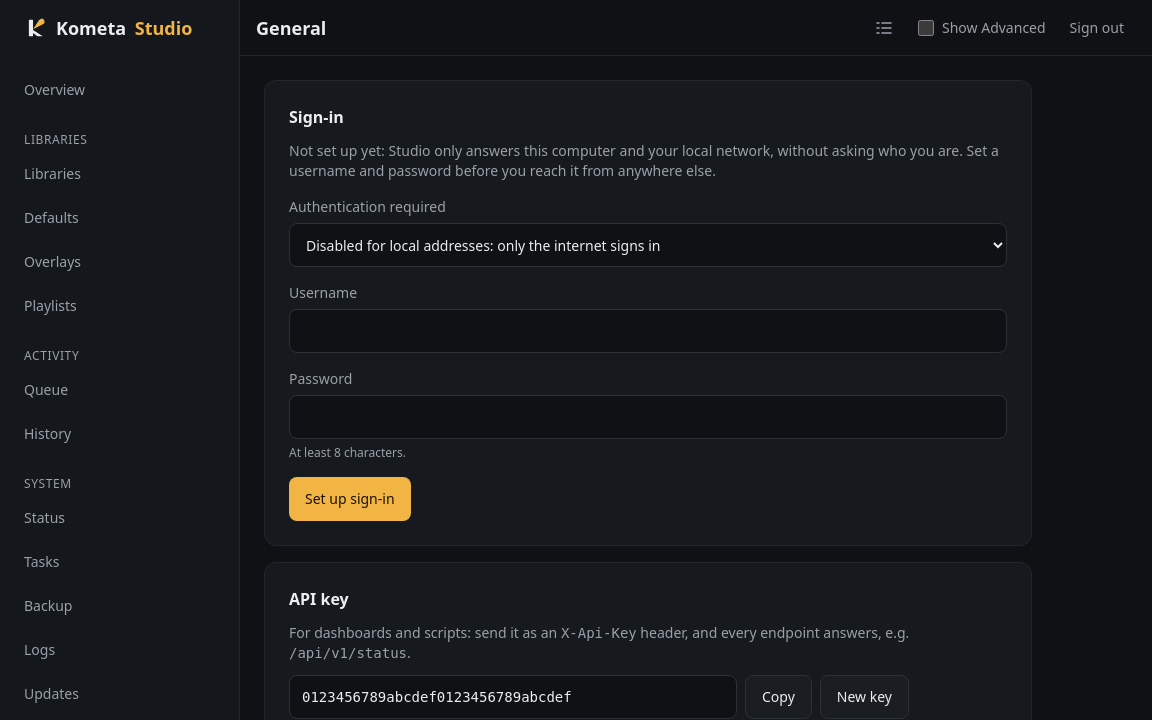
Scenario: Settings → General › replaces the API key only after a second click
Expected: the field named "API key" holds "0123456789abcdef0123456789abcdef", [289,675,737,719]
Click the button "New key". click: (864, 697)
box: [820,675,909,719]
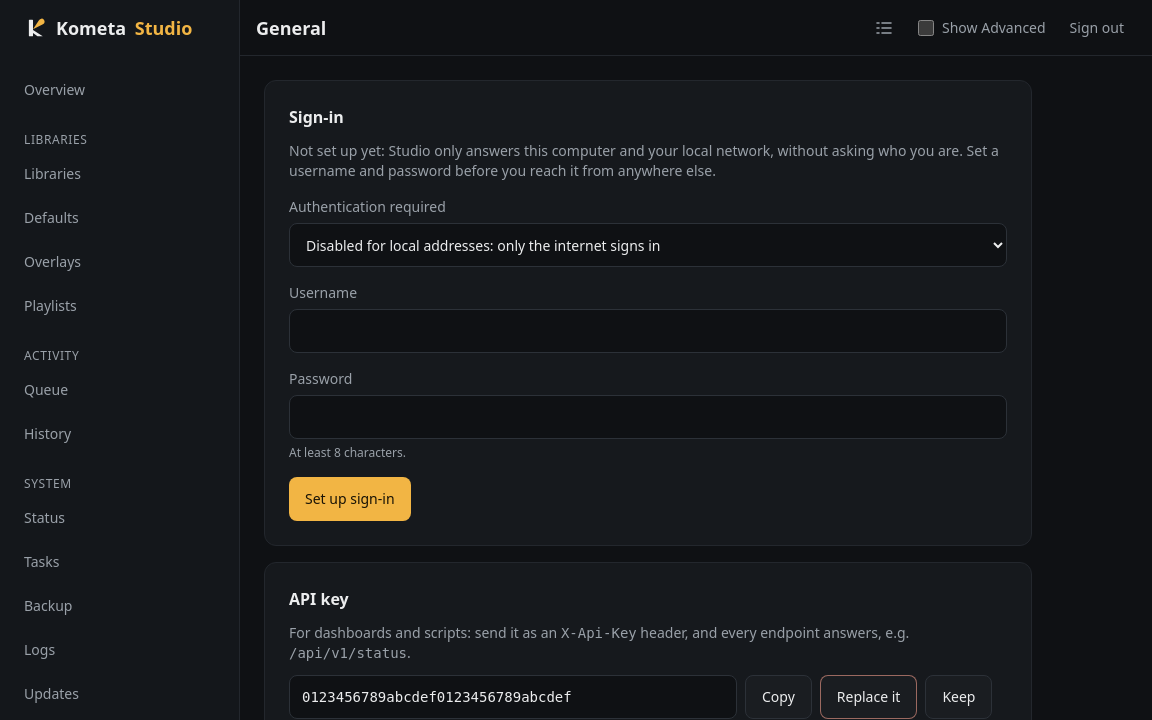
Click the button "Replace it". click: (869, 697)
box: [820,675,917,719]
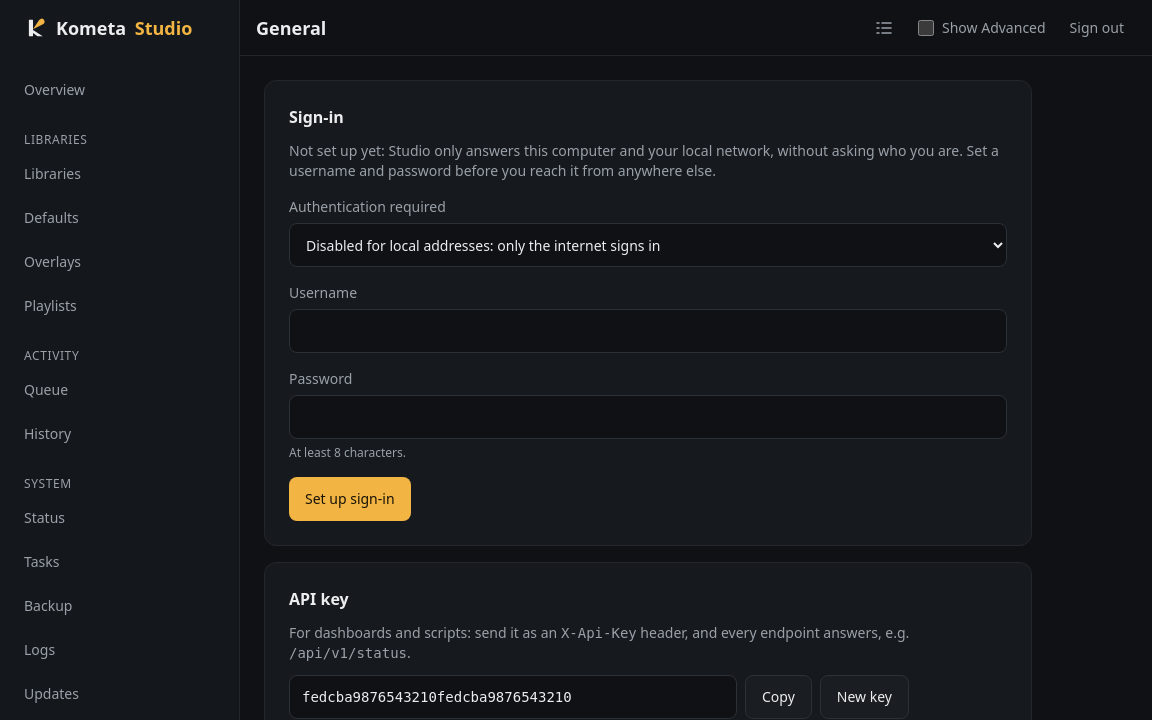
Expected: the field named "API key" holds "fedcba9876543210fedcba9876543210", [289,675,737,719]
